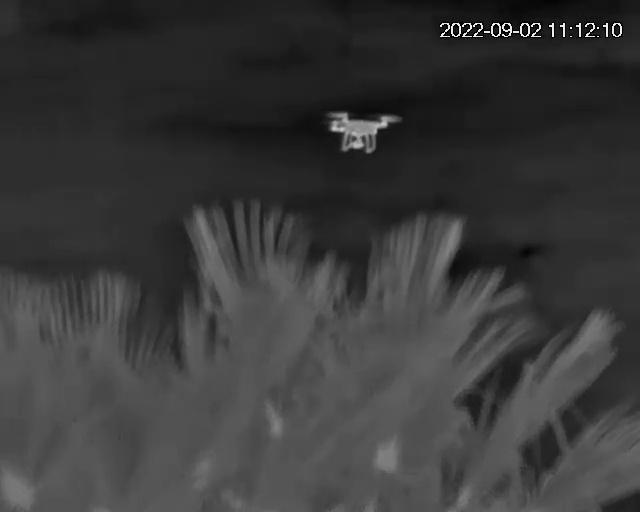DJI-Phantom: (327, 109, 401, 155)
